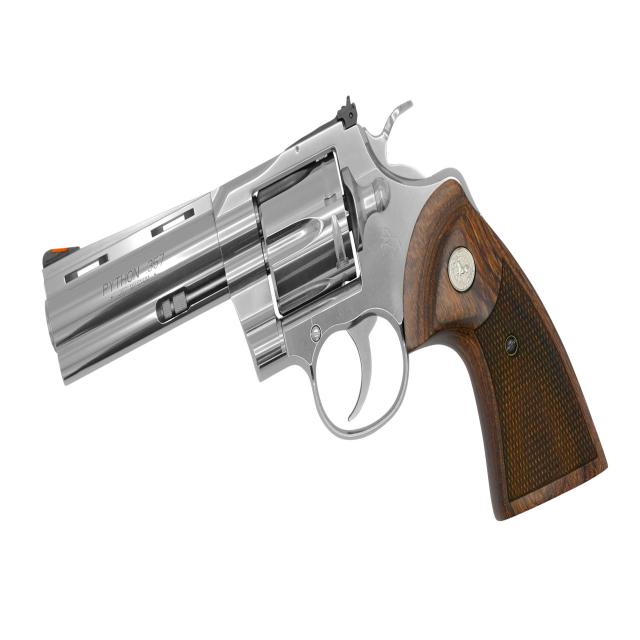handgun: (42, 96, 614, 522)
